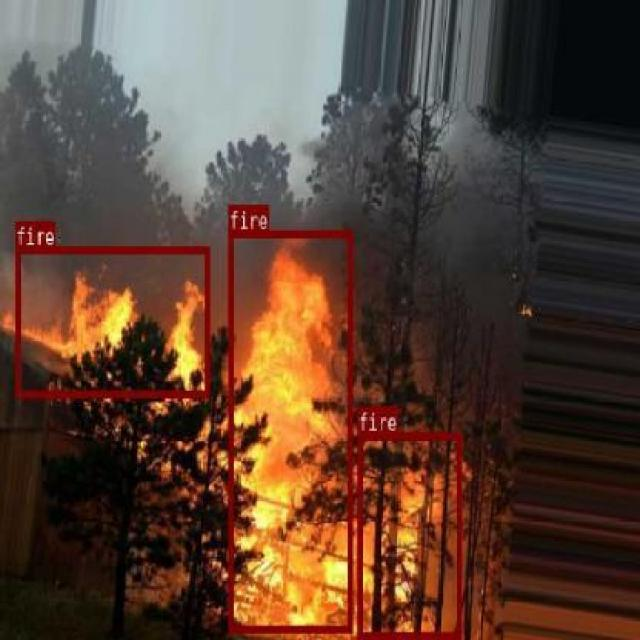Fire: (228, 230, 350, 632), (13, 246, 210, 397), (357, 431, 460, 637)
